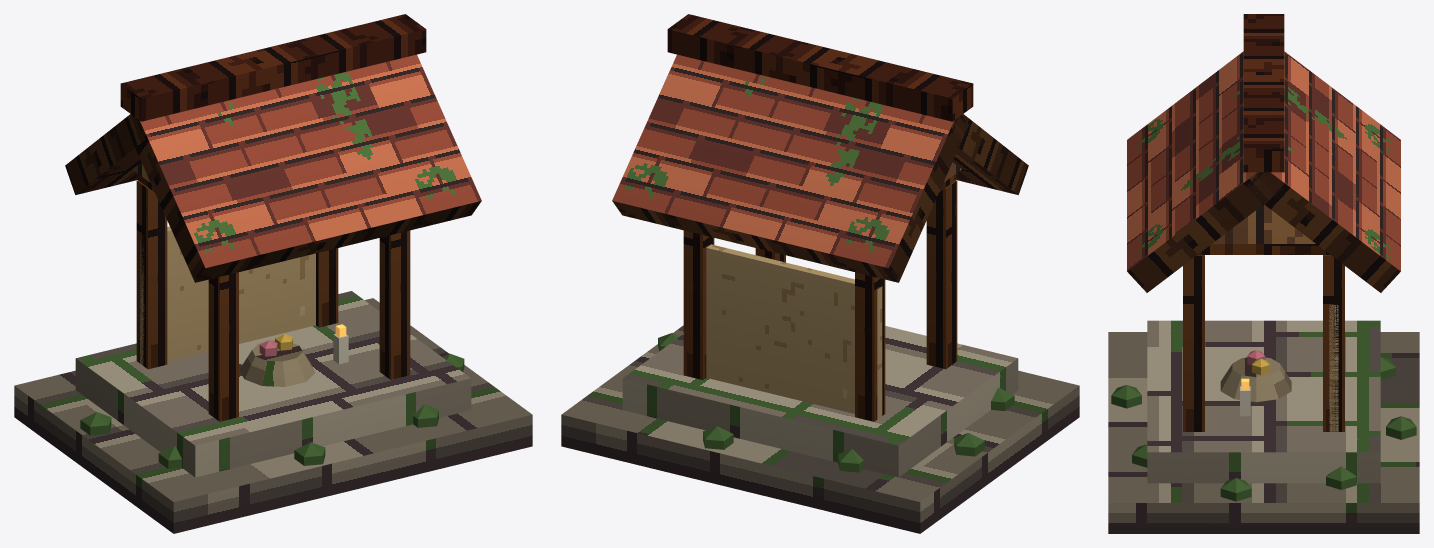
Rendered from shrine.glb.
3 views of the same model, side by side, from view 1: azimuth 30°, elevation 25°; view 2: azimuth 150°, elevation 25°; view 3: azimuth 270°, elevation 25° (orthographic). The views are drawn at different scales.
Visible parts, largest first — view 1: shrine; view 2: shrine; view 3: shrine.
Boxes of the visible parts, x1,y1,x2,y2 form: shrine: (14,14,532,533); shrine: (561,14,1079,533); shrine: (1108,14,1419,533).
Size of the model in its own units: 2.6 by 2.6 by 2.
Materials: 6 (4 with a texture image).
